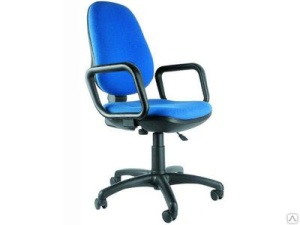chair: (86, 1, 224, 223)
